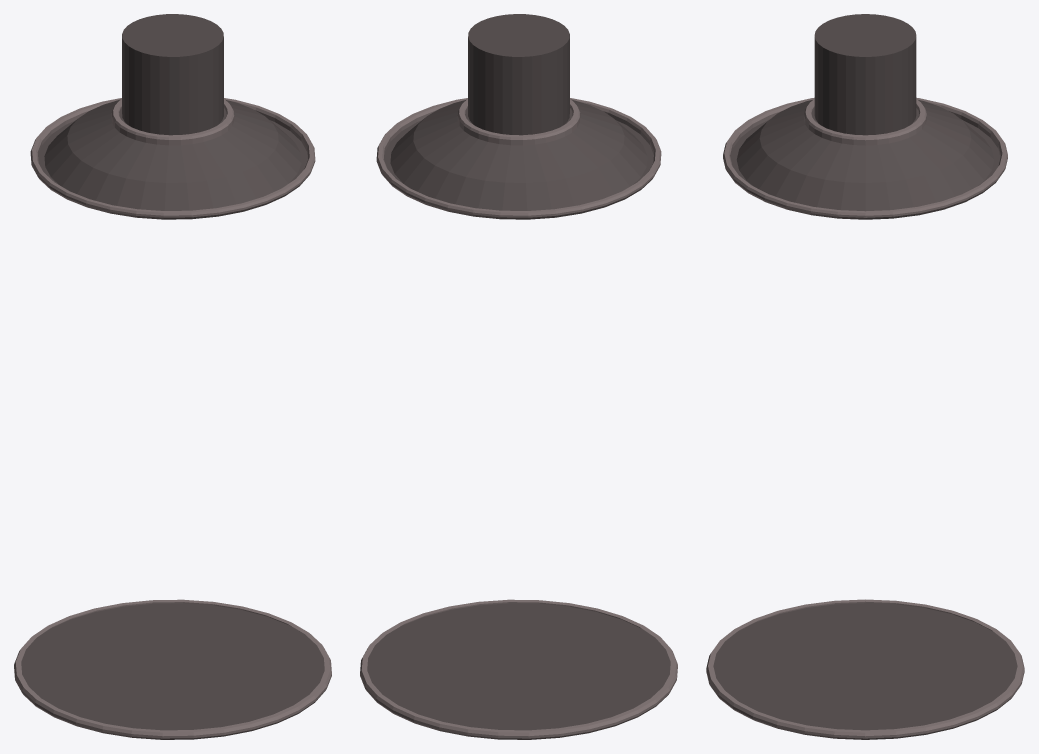
Rendered from MetalSpray.fbx.
3 views of the same model, side by side, from view 1: azimuth 30°, elevation 25°; view 2: azimuth 150°, elevation 25°; view 3: azimuth 270°, elevation 25° (orthographic).
Visible parts, largest first — view 1: Spray; view 2: Spray; view 3: Spray.
Boxes of the visible parts, box(x1,y1,x2,y2) form: Spray: box(14, 14, 331, 739); Spray: box(360, 14, 677, 739); Spray: box(706, 14, 1024, 739).
Size of the model in its own units: 25.13 by 55.51 by 25.13.
1 material, 1 textured.
